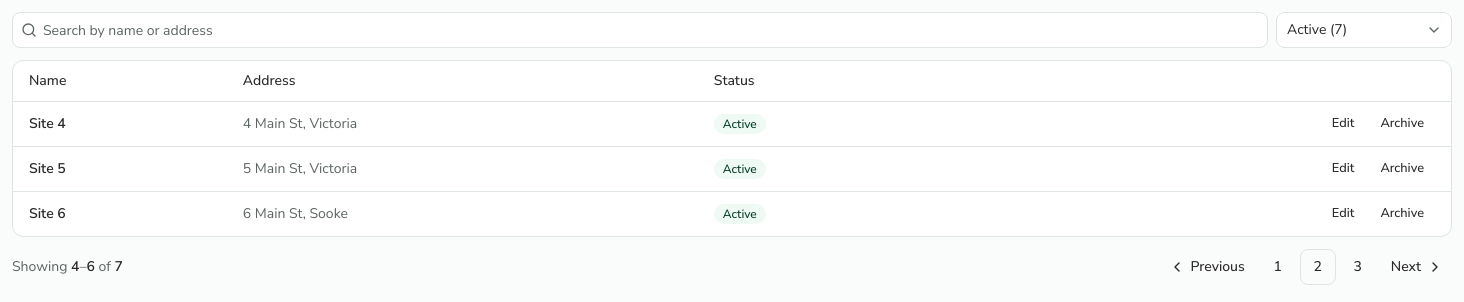
Test: JobSiteList › goes back to the first page when the search changes
In the field named "Search job sites": (652, 30) 37,14 -> 1267,46, type "sooke"
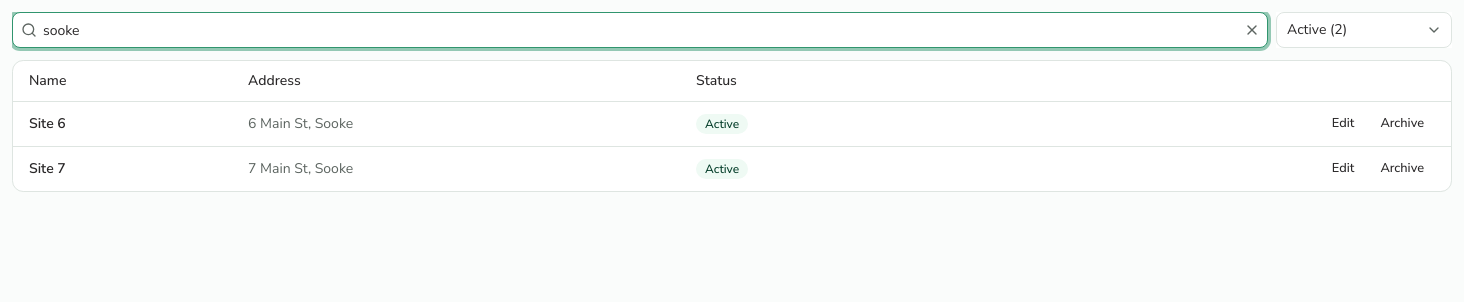
Expected: the navigation bar "Pagination" is gone
